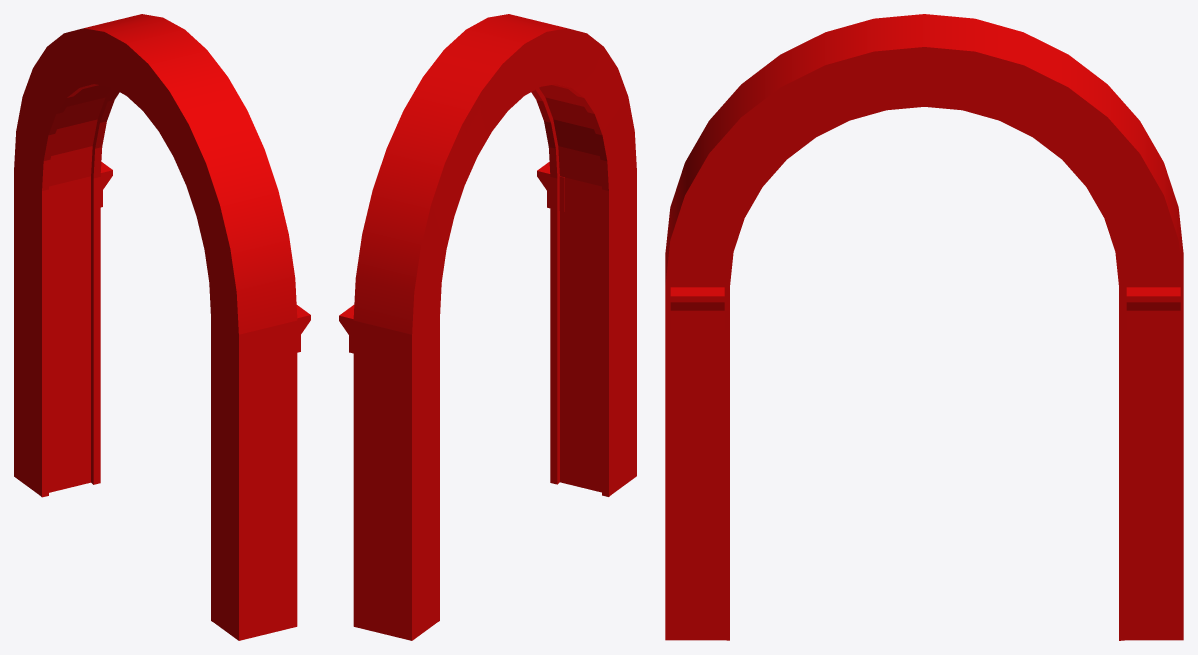
Rendered from Arc_02_Lod0.fbx.
3 renders of one model, left to right at view 1: azimuth 30°, elevation 25°; view 2: azimuth 150°, elevation 25°; view 3: azimuth 270°, elevation 25°, orthographic. The views are drawn at different scales.
Parts seen in each view (by area): view 1: Arc_02_Lod0; view 2: Arc_02_Lod0; view 3: Arc_02_Lod0.
Part boxes in pixels (x1,y1,x2,y2): Arc_02_Lod0: (14, 14, 310, 640); Arc_02_Lod0: (339, 14, 636, 640); Arc_02_Lod0: (665, 14, 1183, 640).
Bounding box in the file's own units: 211 × 1394 × 1103.
